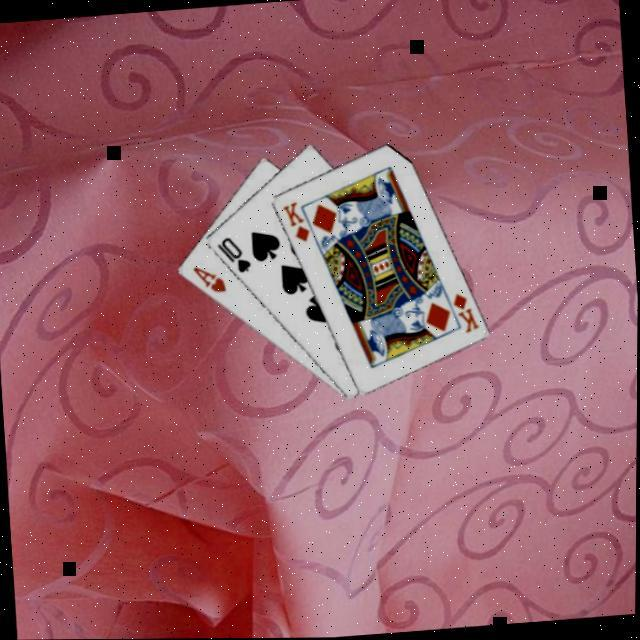10S: (214, 230, 255, 275)
AH: (191, 258, 231, 296)
KD: (280, 195, 314, 245), (450, 287, 484, 335)
